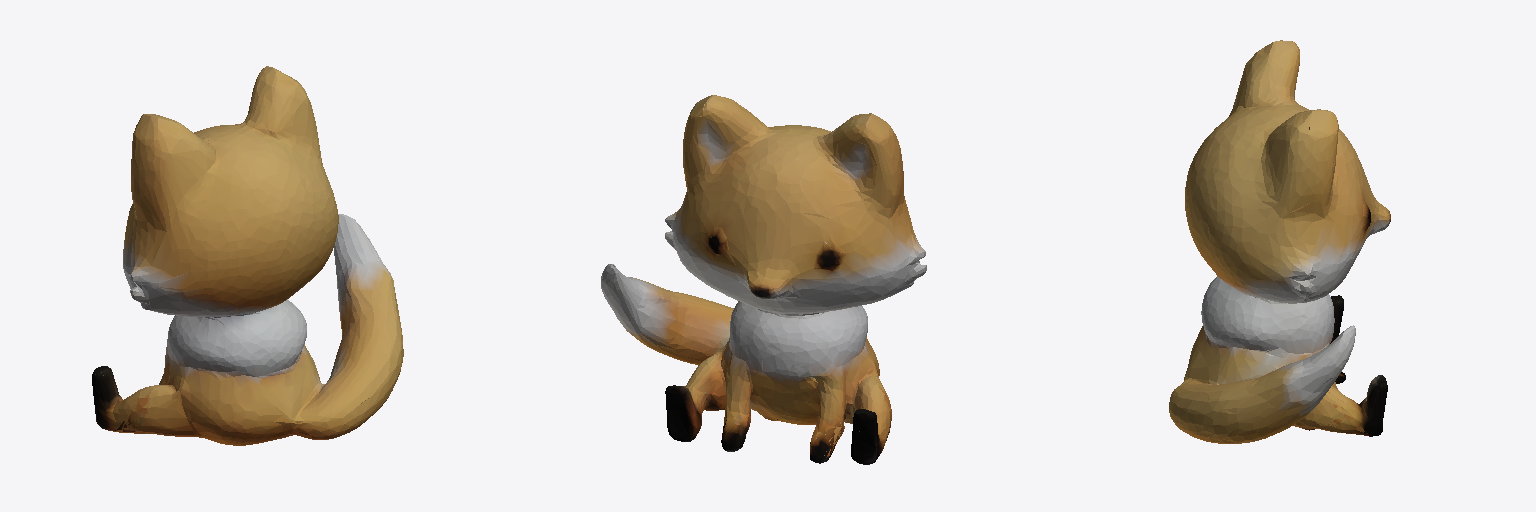
3 renders of one model, left to right at view 1: azimuth 30°, elevation 25°; view 2: azimuth 150°, elevation 25°; view 3: azimuth 270°, elevation 25°, orthographic.
Parts seen in each view (by area): view 1: 9_vc; view 2: 9_vc; view 3: 9_vc.
Part boxes in pixels (bbox=[...]): 9_vc: bbox=[92, 66, 403, 445]; 9_vc: bbox=[601, 95, 926, 464]; 9_vc: bbox=[1169, 40, 1390, 443].
Size of the model in its own units: 1.39 by 1.55 by 0.9481.
1 materials, 1 textured.